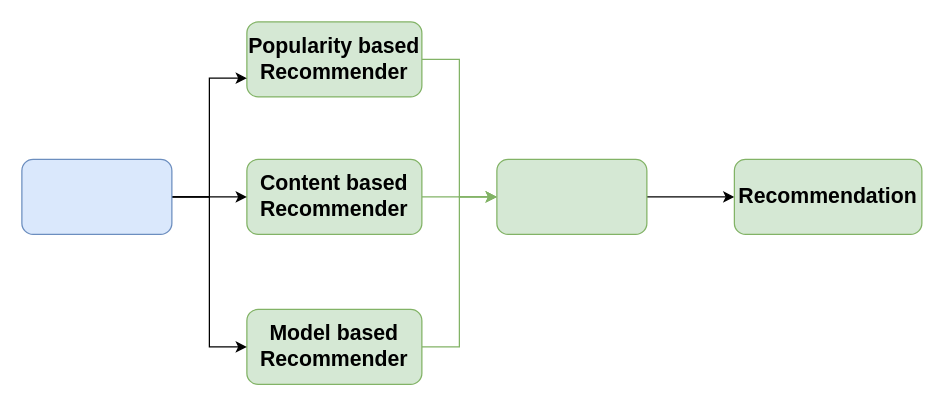
The diagram is 944 pixels wide and 406 high, and some of its shapes have lost their labels. The centre of each missing label's shape, as x and y in pixels:
"Features" belongs at (96,196).
"hybrid weighted recommender" belongs at (571,196).
